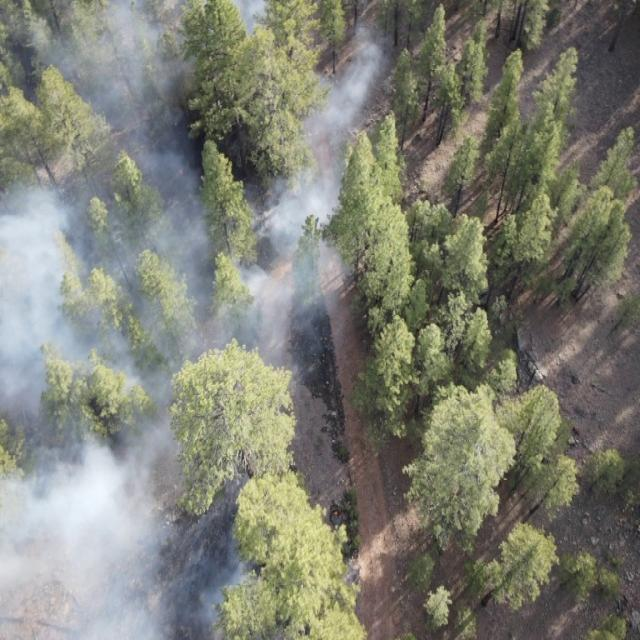fire: (331, 506, 340, 522), (177, 168, 185, 180)
smoke: (0, 222, 339, 640), (0, 0, 390, 228)
